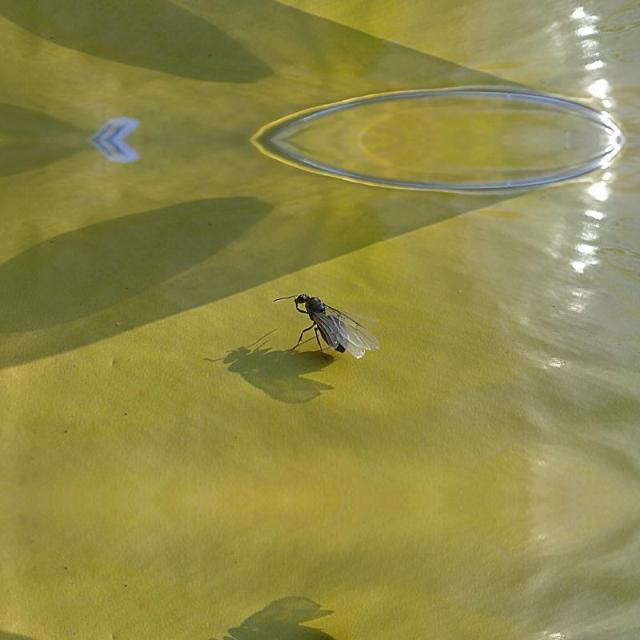Lasius: (278, 285, 378, 365)
